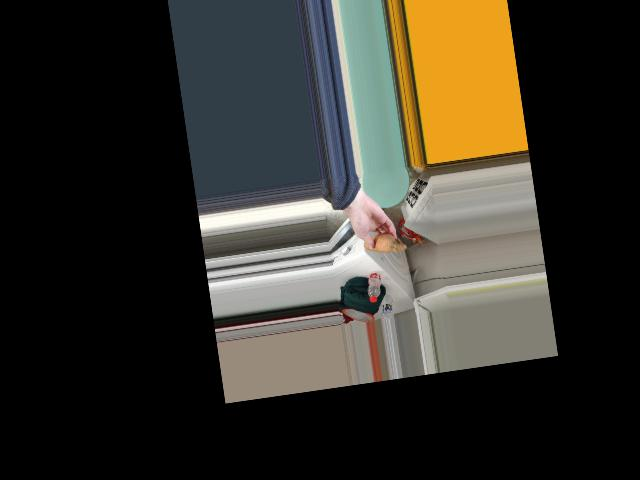sweet_potato: (365, 233, 398, 255)
